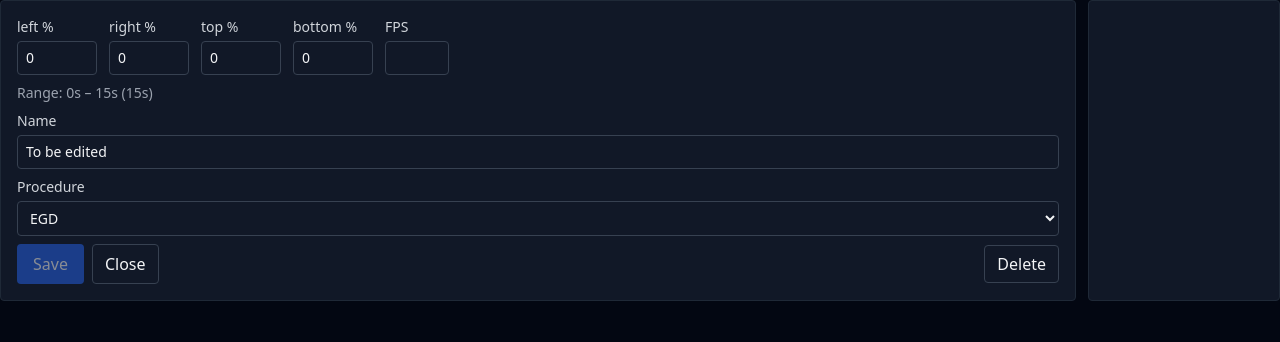
Test: SequenceForm edit mode (sequence prop present) › does not submit if the range-change confirmation is cancelled, and returns to the editable state
Step 1. Type "2" into the number field labelled "FPS" → (417, 58), box [385, 41, 449, 75]
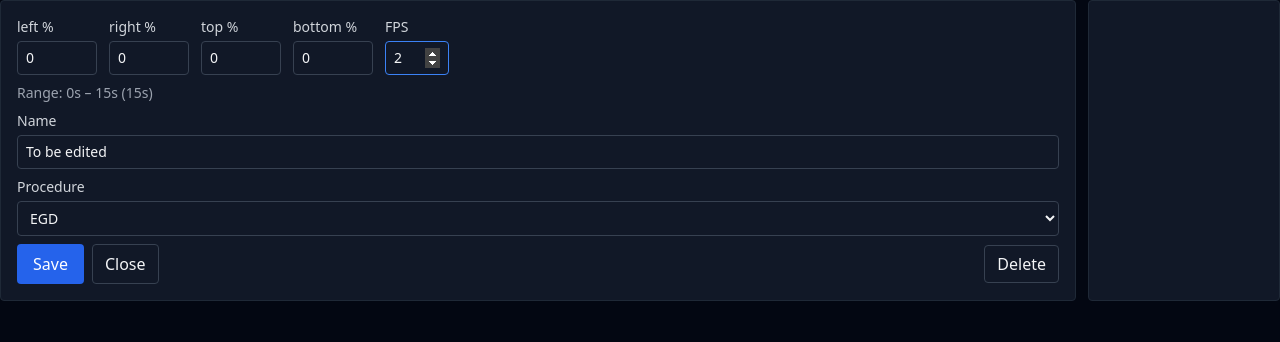
Step 2. Click the button "Save" → (50, 264), box [17, 244, 84, 284]
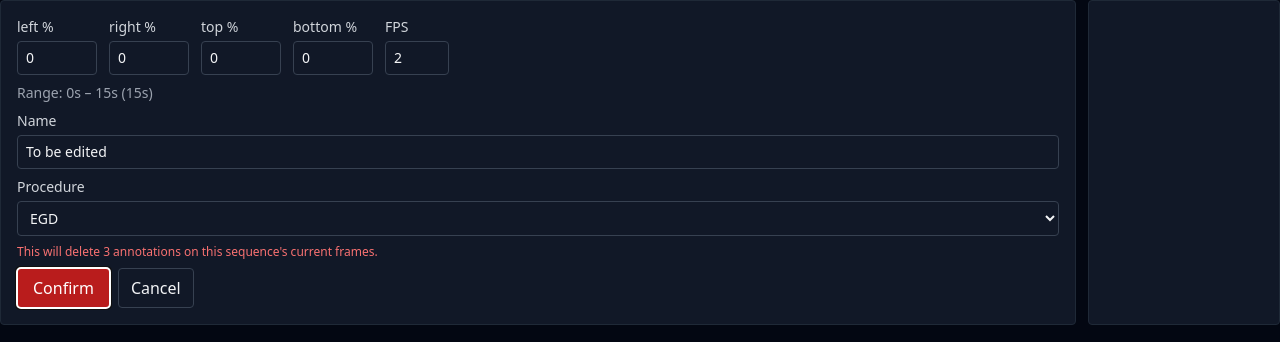
Step 3. Click the button "Cancel" → (156, 288), box [118, 268, 194, 308]
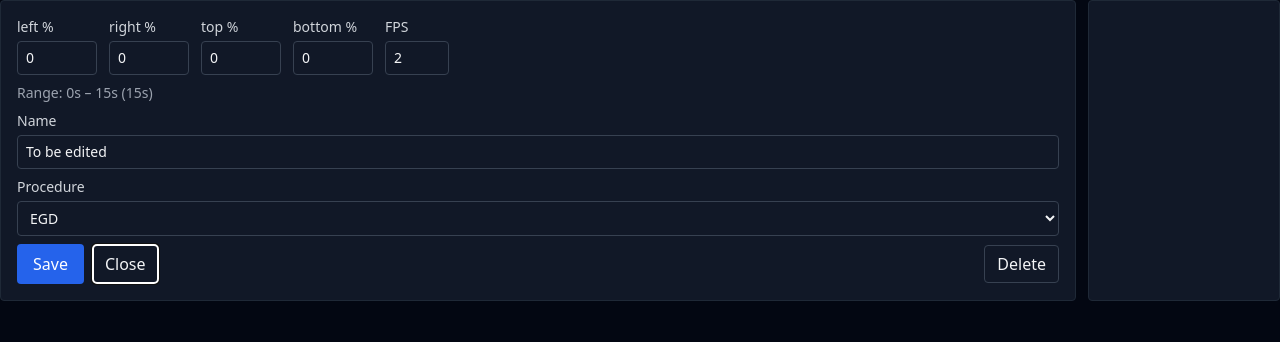
Check: the button "Save" is shown, box [17, 244, 84, 284]
